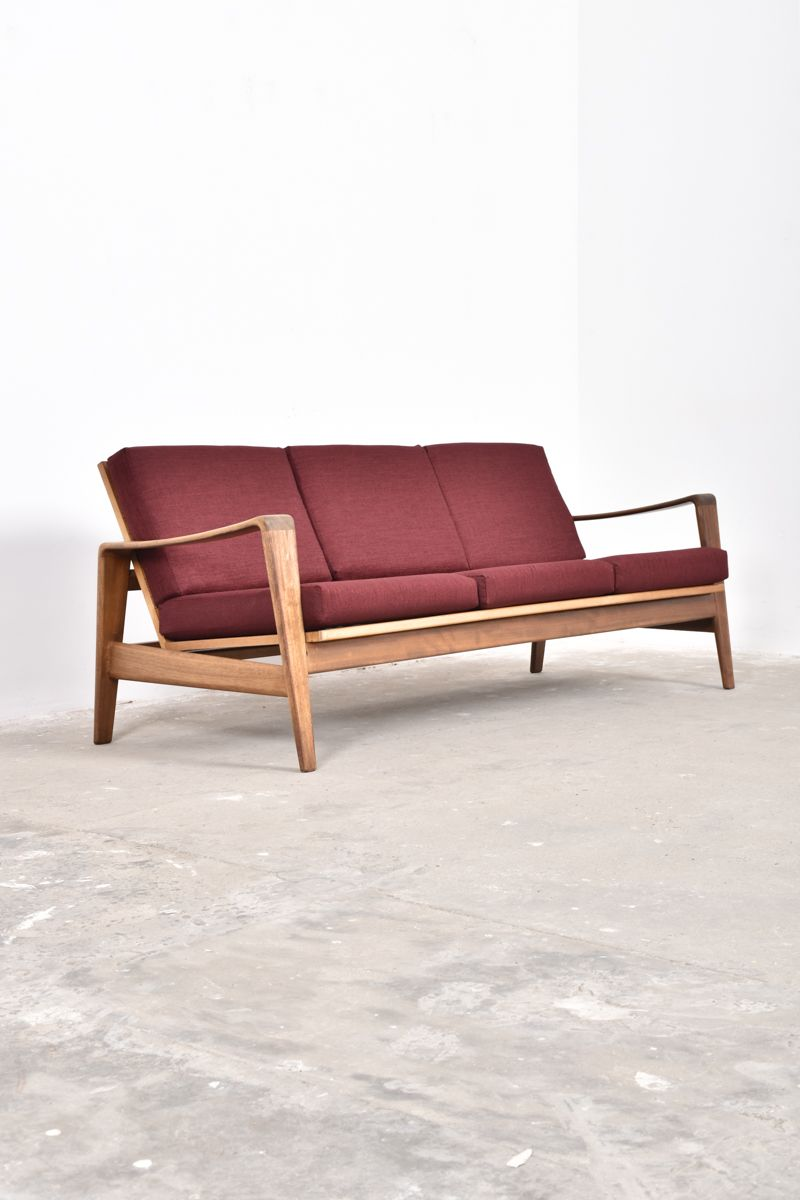3seatersofa: (95, 443, 734, 771)
backrest: (108, 443, 584, 583), (152, 539, 265, 601)
base: (308, 589, 715, 672), (108, 642, 286, 694)
leftarmrest: (578, 490, 712, 518)
leg: (240, 514, 316, 771), (653, 590, 734, 689), (94, 546, 130, 744), (664, 591, 734, 688), (681, 494, 720, 546), (692, 502, 725, 548), (530, 639, 544, 672), (531, 641, 545, 672)
rightarmrest: (101, 518, 265, 553)
seat: (303, 548, 727, 630), (160, 589, 274, 639)
